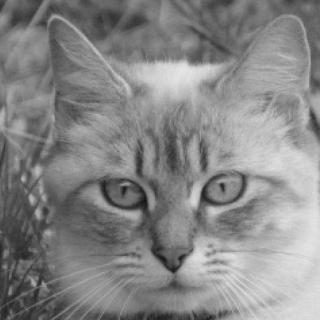cat: (25, 15, 318, 318)
nose: (148, 224, 198, 278)
